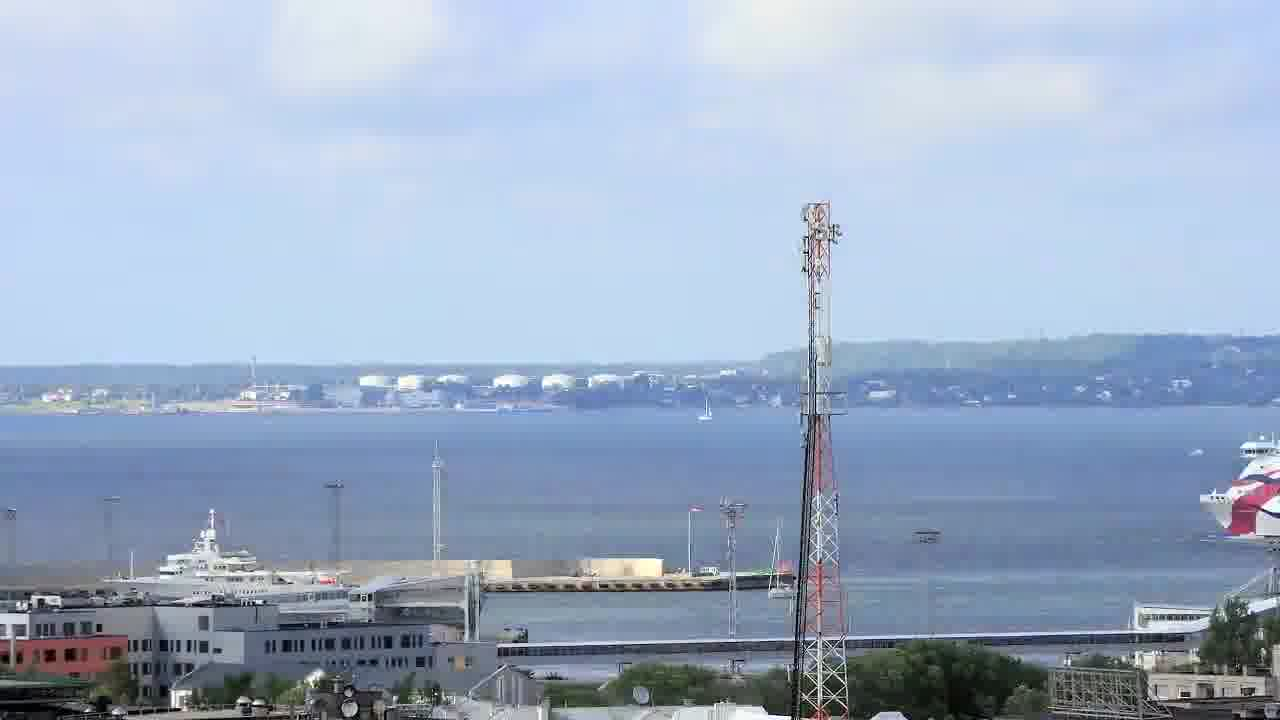type-0: (746, 526, 807, 615)
type-3: (96, 508, 381, 605), (1185, 414, 1280, 554)
